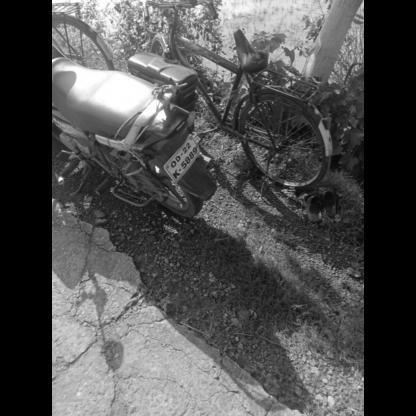Bicycle: (122, 1, 349, 208)
